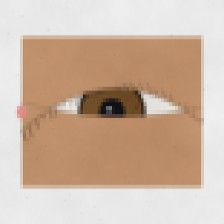pinguecula_lesion: (164, 91, 198, 118)
